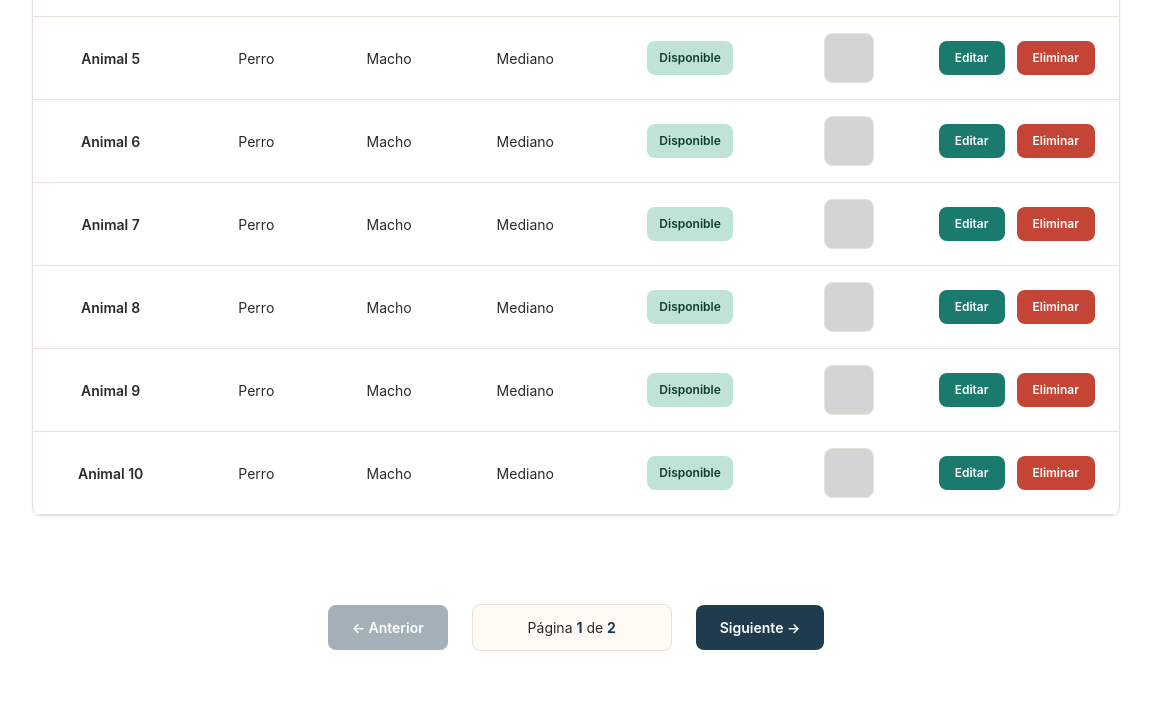
pagination › disables next button on last page
The image size is (1152, 715).
(page scrolled)
Click the button titled "Página siguiente": coordinates (760, 628) [696,605,824,650]
(page scrolled)
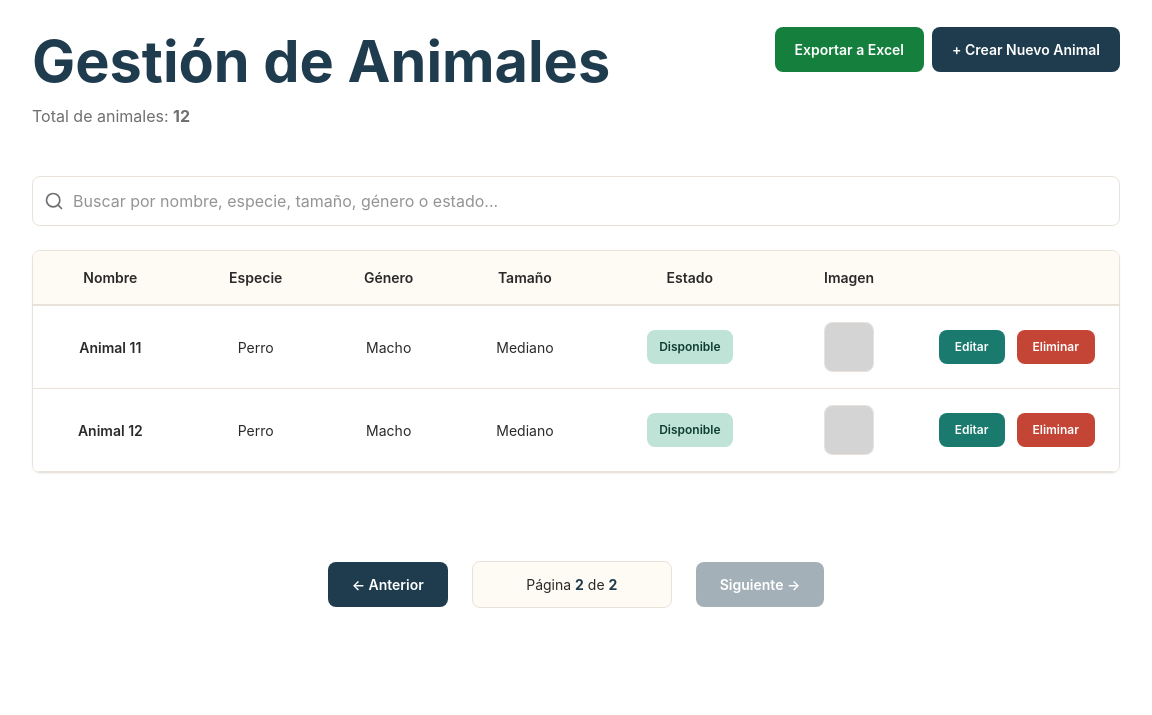
Now the button titled "Página siguiente" is disabled, box [696,562,824,607]
